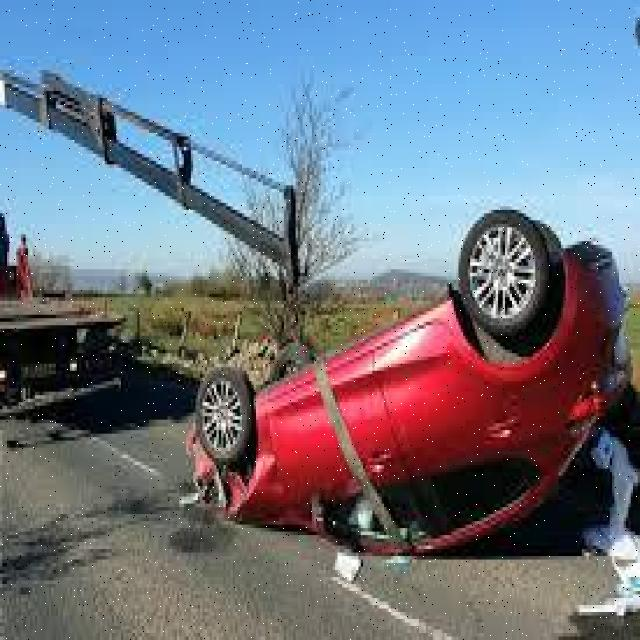severe: (183, 210, 632, 563)
